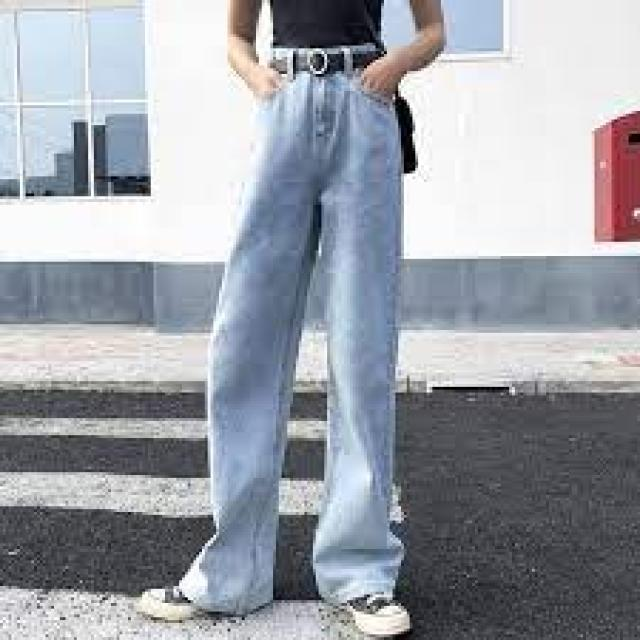long-pants: (178, 43, 402, 615)
